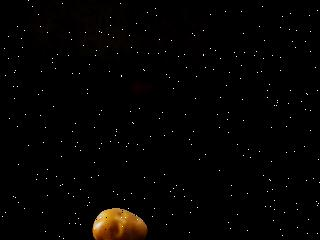Potato: (91, 208, 150, 240)
